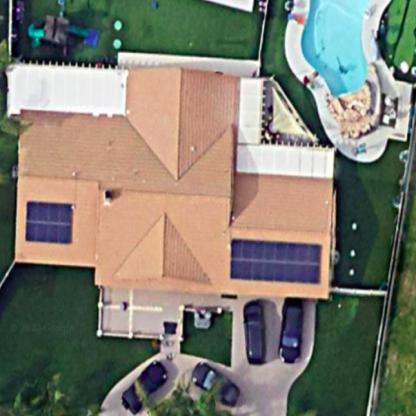car: (114, 349, 170, 415), (184, 355, 246, 405), (236, 293, 275, 367), (279, 294, 306, 376)
solar_panel: (224, 230, 328, 289), (20, 196, 83, 249)
swimming_pool: (290, 1, 395, 152)
